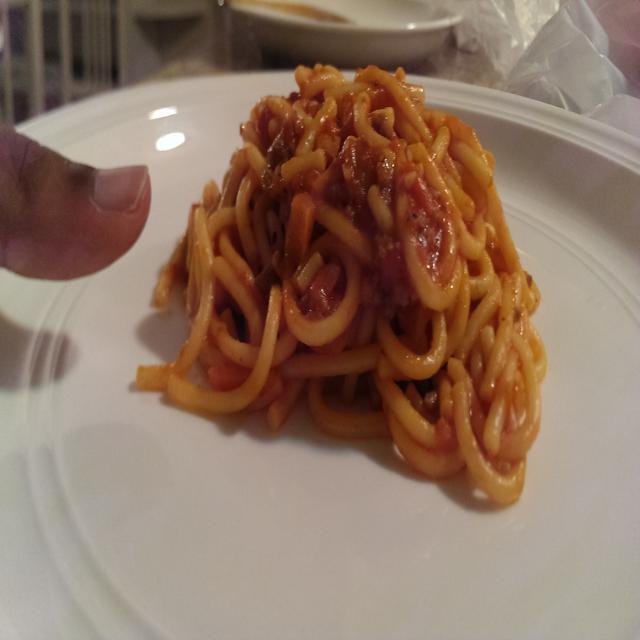pasta: (135, 61, 547, 506)
